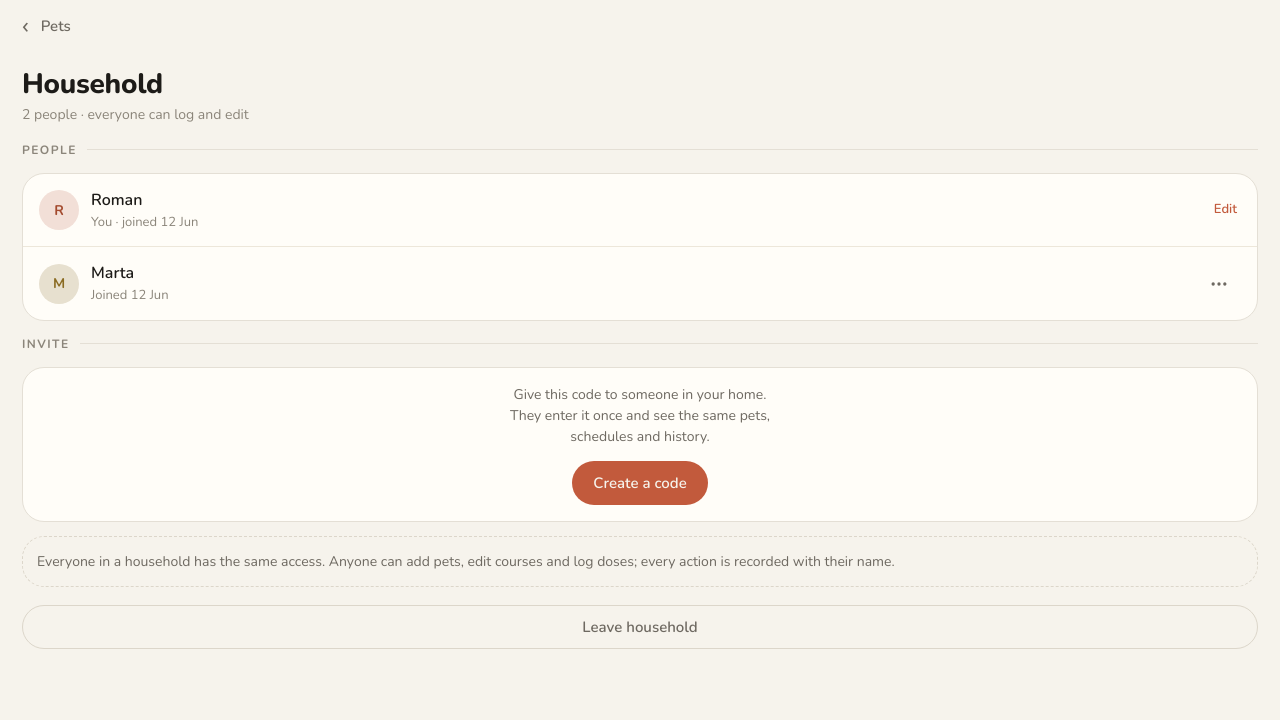
Scenario: HouseholdPage › the overflow on another member asks for confirmation before removing, and only removes after it
The width and height of the screenshot is (1280, 720).
Click the button named "More options for Marta": (1219, 284) [1197, 262, 1241, 306]
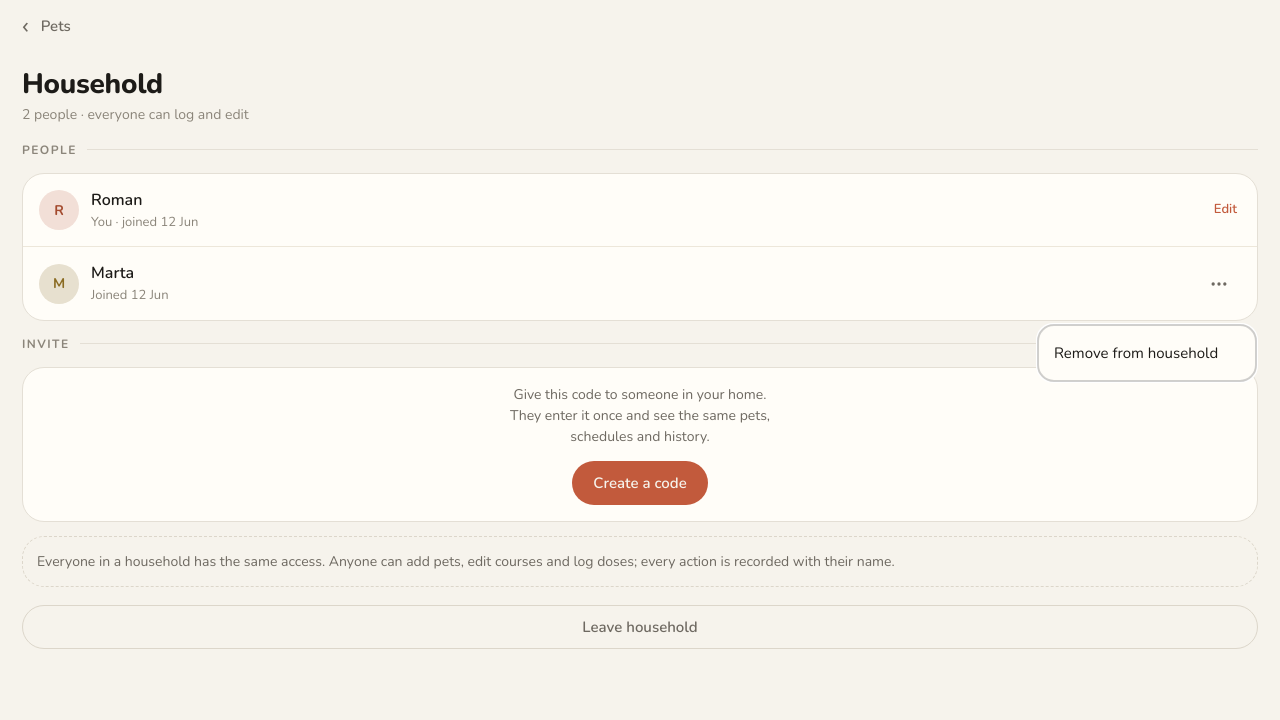
Click the menu item "Remove from household": (1136, 353) [1054, 343, 1218, 363]
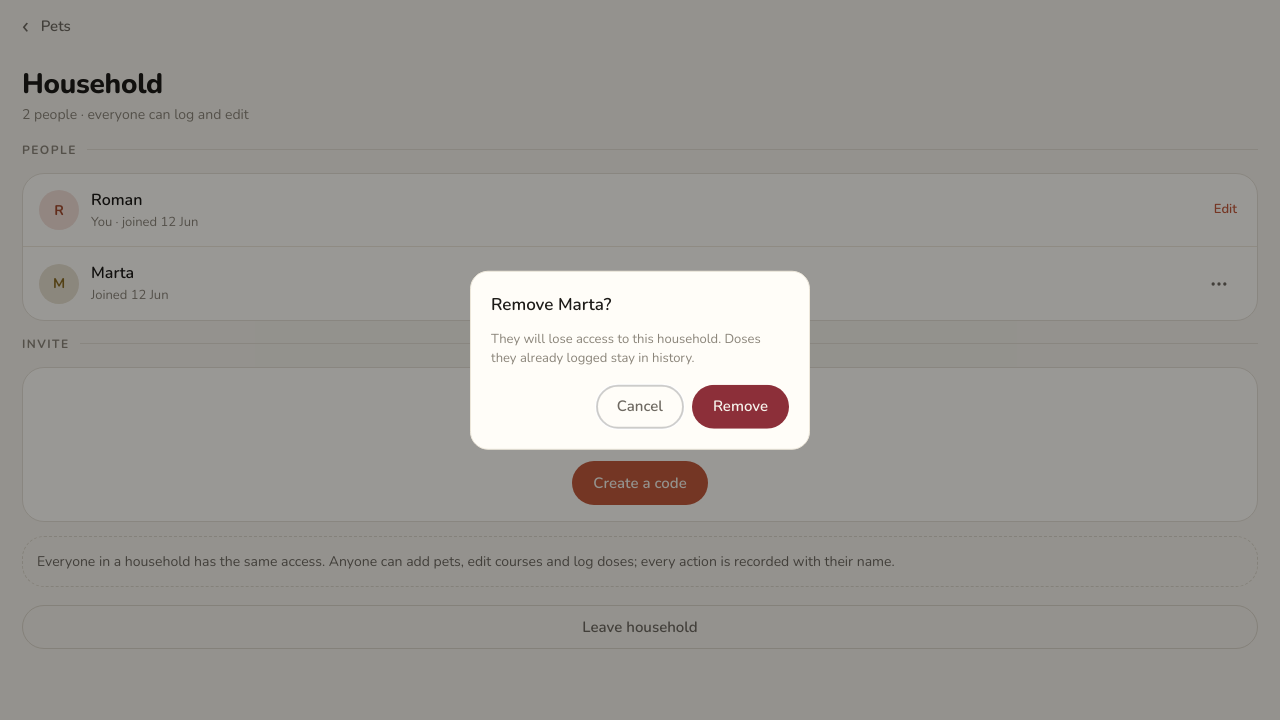
Expected: the text "Marta" is shown, [91, 262, 134, 284]
Click the button "Remove": (740, 406) [692, 384, 789, 428]
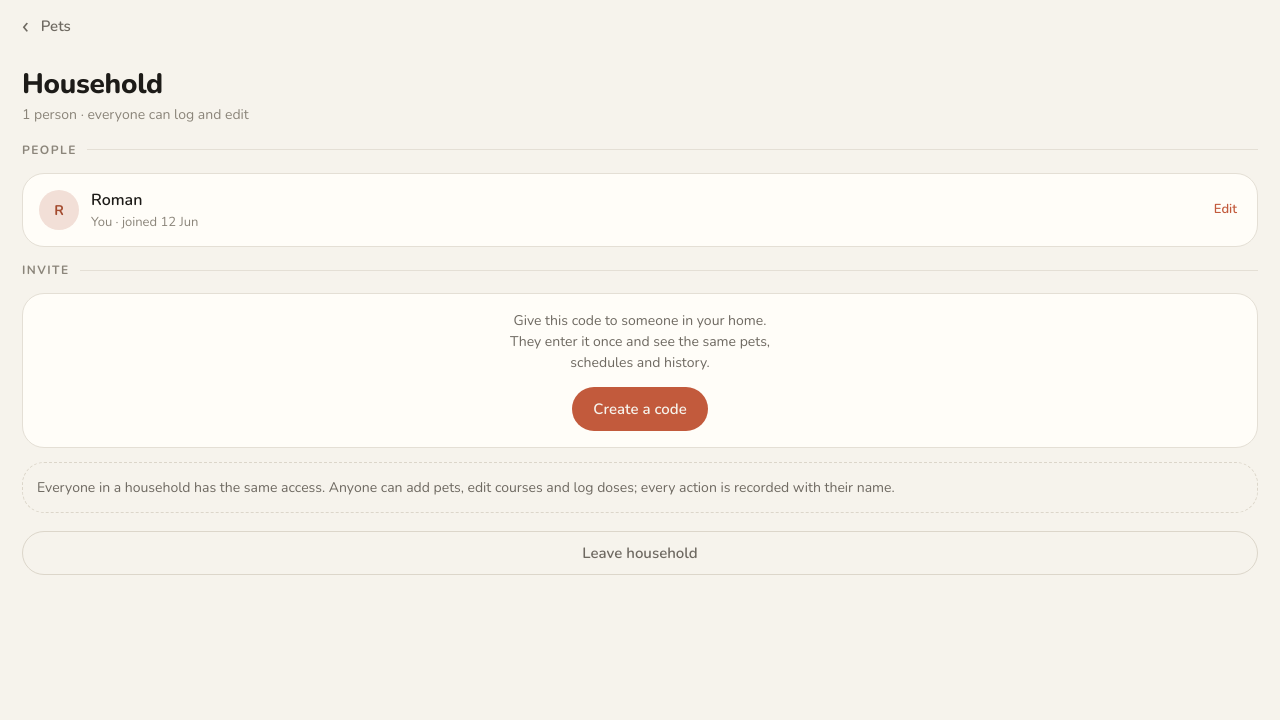
Expected: the text "Marta" is gone
